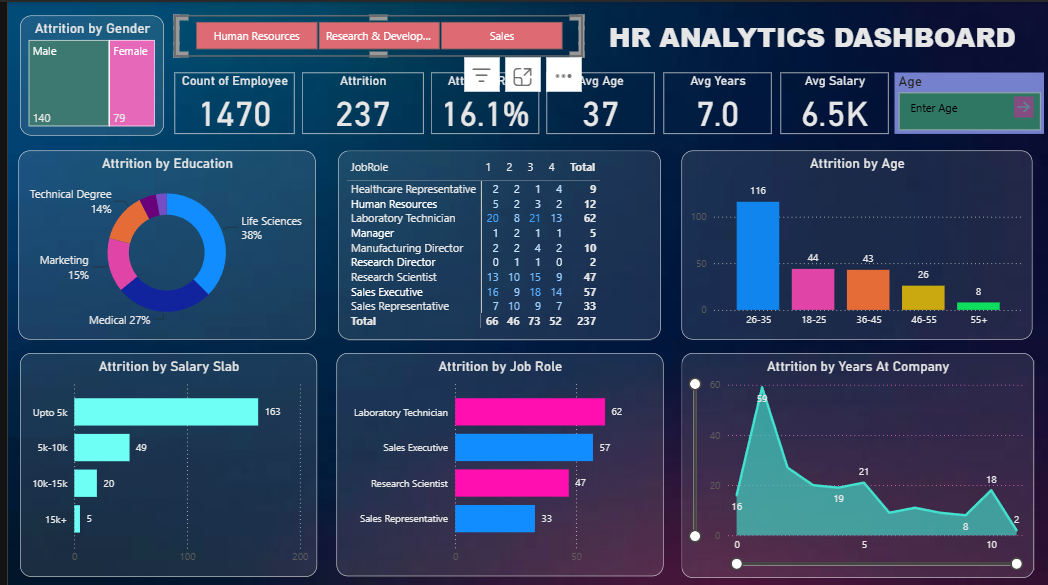

Layout of this report page (visuals, bound fields, positions):
{"tool":"powerbi","page":{"name":"Page 1","canvas":[1280,720],"ordinal":0},"visuals":[{"type":"card","title":"Count of Employee","fields":{"Values":["CountNonNull(HR_Analytics.EmpID)"]},"box":[204.3,86.5,147.3,75.5],"z":0},{"type":"card","title":"Attrition","fields":{"Values":["Sum(HR_Analytics.AttritionCount)"]},"box":[360.8,86.5,149.1,75.5],"z":1000},{"type":"card","title":"Attrition Rate","fields":{"Values":["HR_Analytics.AttritionRate"]},"box":[519.1,86.5,132.5,75.5],"z":2000},{"type":"card","title":"Avg Age","fields":{"Values":["Avg(HR_Analytics.Age)"]},"box":[660.9,86.5,132.5,75.5],"z":3000},{"type":"card","title":"Avg Salary","fields":{"Values":["Avg(HR_Analytics.MonthlyIncome)"]},"box":[948,86.5,132.5,75.5],"z":4000},{"type":"card","title":"Avg Years","fields":{"Values":["Avg(HR_Analytics.YearsAtCompany)"]},"box":[804.5,86.5,132.5,75.5],"z":5000},{"type":"donutChart","title":"Attrition by Education","fields":{"Y":["Sum(HR_Analytics.AttritionCount)"],"Category":["HR_Analytics.EducationField"]},"box":[12.9,182.2,364.5,231.9],"z":6000},{"type":"columnChart","title":"Attrition by Age","fields":{"Category":["HR_Analytics.AgeGroup"],"Y":["Sum(HR_Analytics.AttritionCount)"]},"box":[826.5,182.2,430.8,231.9],"z":7000},{"type":"pivotTable","fields":{"Rows":["HR_Analytics.JobRole"],"Columns":["HR_Analytics.JobSatisfaction"],"Values":["Sum(HR_Analytics.AttritionCount)"]},"box":[405,182.2,395.8,231.9],"z":8000},{"type":"barChart","title":"Attrition by Salary Slab","fields":{"Category":["HR_Analytics.SalarySlab"],"Y":["Sum(HR_Analytics.AttritionCount)"]},"box":[13.9,431.4,364.8,274.6],"z":9000},{"type":"barChart","title":"Attrition by Job Role","fields":{"Category":["HR_Analytics.JobRole"],"Y":["Sum(HR_Analytics.AttritionCount)"]},"box":[403.1,430.8,401.3,274.3],"z":10000},{"type":"areaChart","title":"Attrition by Years At Company","fields":{"Category":["HR_Analytics.YearsAtCompany"],"Y":["Sum(HR_Analytics.AttritionCount)"]},"box":[826.5,430.8,432.6,276.1],"z":11000},{"type":"treemap","title":"Attrition by Gender","fields":{"Group":["HR_Analytics.Gender"],"Values":["Sum(HR_Analytics.AttritionCount)"]},"box":[14.7,16.6,176.7,147.3],"z":12000},{"type":"slicer","fields":{"Values":["HR_Analytics.Department"]},"box":[204.3,16.6,500.7,49.7],"z":13000},{"type":"textbox","box":[692.2,14.7,567,60.7],"z":14000},{"type":"textSlicer","fields":{"Values":["HR_Analytics.Age"]},"box":[1087.9,86.5,184.1,75.5],"z":15000}]}

Visuals, with their boxes in screenshot pixels (x1, y1, x2, y2), scaled from the page's 1280x720 canvas onto the 1048x585 screenshot:
"Count of Employee" card: 167:70:288:132
"Attrition" card: 295:70:417:132
"Attrition Rate" card: 425:70:533:132
"Avg Age" card: 541:70:650:132
"Avg Salary" card: 776:70:885:132
"Avg Years" card: 659:70:767:132
"Attrition by Education" donutChart: 11:148:309:336
"Attrition by Age" columnChart: 677:148:1029:336
pivotTable - HR_Analytics.JobRole x HR_Analytics.JobSatisfaction: 332:148:656:336
"Attrition by Salary Slab" barChart: 11:351:310:574
"Attrition by Job Role" barChart: 330:350:659:573
"Attrition by Years At Company" areaChart: 677:350:1031:574
"Attrition by Gender" treemap: 12:13:157:133
slicer - HR_Analytics.Department: 167:13:577:54
textbox: 567:12:1031:61
textSlicer - HR_Analytics.Age: 891:70:1041:132
